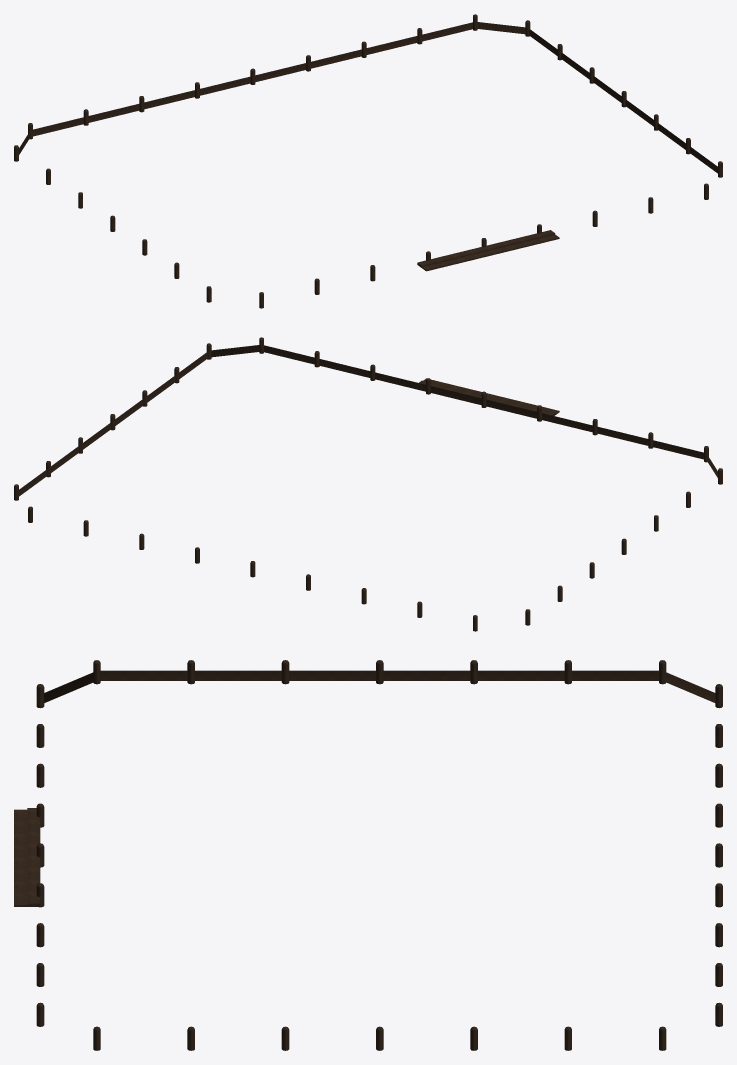
The model's file is deck.glb.
3 views of the same model, one above another, from view 1: azimuth 30°, elevation 25°; view 2: azimuth 150°, elevation 25°; view 3: azimuth 270°, elevation 25° (orthographic). The views are drawn at different scales.
Visible parts, largest first — view 1: deck; view 2: deck; view 3: deck.
Boxes of the visible parts, <box> form: deck: <box>14,14,722,308</box>; deck: <box>14,337,722,631</box>; deck: <box>14,660,722,1050</box>.
Bounding box in the file's own units: 46.4 × 1.3 × 37.6.
2 materials, 2 textured.
